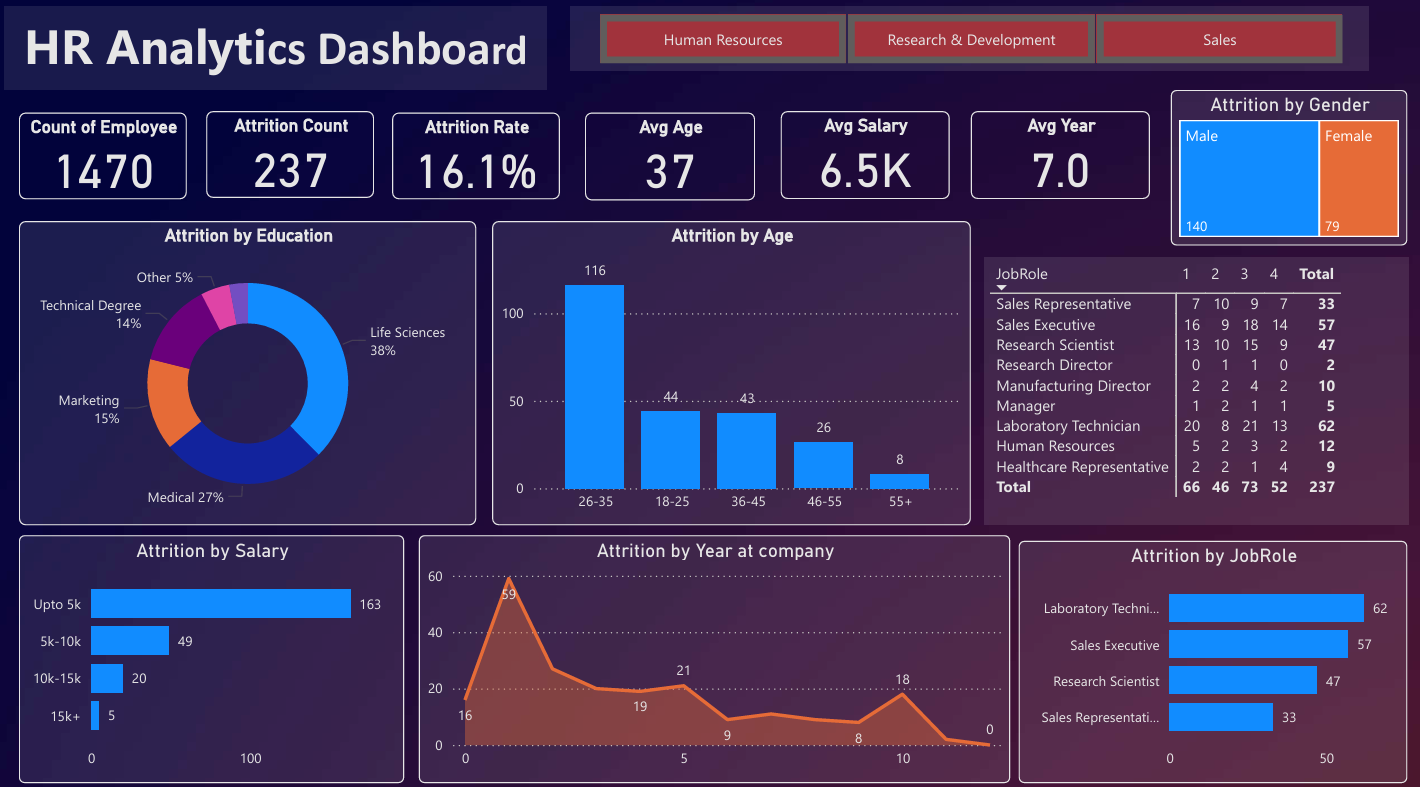

This screenshot's page, from the dashboard's own definition file:
{"tool":"powerbi","page":{"name":"Page 1","canvas":[1280,720],"ordinal":0},"visuals":[{"type":"card","title":"Count of Employee","fields":{"Values":["CountNonNull(HR_Analytics.EmpID)"]},"box":[18.9,100.2,149.3,77.5],"z":0},{"type":"card","title":"Attrition Count","fields":{"Values":["Sum(HR_Analytics.AttritionCount)"]},"box":[185.2,98.3,149.3,77.5],"z":1000},{"type":"card","title":"Attrition Rate","fields":{"Values":["HR_Analytics.AttritionRate"]},"box":[349.6,100.2,149.3,77.5],"z":2000},{"type":"card","title":"Avg Age","fields":{"Values":["Avg(HR_Analytics.Age)"]},"box":[508.4,100.2,151.2,77.5],"z":3000},{"type":"card","title":"Avg Salary","fields":{"Values":["Avg(HR_Analytics.MonthlyIncome)"]},"box":[684.1,100.2,149.3,77.5],"z":4000},{"type":"card","title":"Avg Year","fields":{"Values":["Avg(HR_Analytics.YearsAtCompany)"]},"box":[850.4,98.3,149.3,77.5],"z":5000},{"type":"donutChart","title":"Attrition by Education","fields":{"Y":["Sum(HR_Analytics.AttritionCount)"],"Category":["HR_Analytics.EducationField"]},"box":[18.9,196.5,406.3,270.2],"z":6000},{"type":"columnChart","title":"Attrition by Age","fields":{"Y":["Sum(HR_Analytics.AttritionCount)"],"Category":["HR_Analytics.AgeGroup"]},"box":[438.4,196.5,425.2,270.2],"z":7000},{"type":"pivotTable","fields":{"Rows":["HR_Analytics.JobRole"],"Columns":["HR_Analytics.JobSatisfaction"],"Values":["Sum(HR_Analytics.AttritionCount)"]},"box":[878.7,240,374.2,226.8],"z":8000},{"type":"barChart","title":"Attrition by Salary","fields":{"Category":["HR_Analytics.SalarySlab"],"Y":["Sum(HR_Analytics.AttritionCount)"]},"box":[18.9,476.2,330.7,219.2],"z":9000},{"type":"barChart","title":"Attrition by JobRole","fields":{"Category":["HR_Analytics.JobRole"],"Y":["Sum(HR_Analytics.AttritionCount)"]},"box":[909,480,343.9,215.4],"z":10000},{"type":"areaChart","title":"Attrition by Year at company ","fields":{"Category":["HR_Analytics.YearsAtCompany"],"Y":["Sum(HR_Analytics.AttritionCount)"]},"box":[374.2,481.9,519.7,213.5],"z":11000},{"type":"treemap","title":"Attrition by Gender","fields":{"Group":["HR_Analytics.Gender"],"Values":["Sum(HR_Analytics.AttritionCount)"]},"box":[1018.6,100.2,234.3,117.2],"z":12000},{"type":"slicer","fields":{"Values":["HR_Analytics.Department"]},"box":[508.4,5.7,619.8,52.9],"z":13000},{"type":"textbox","box":[5.7,5.7,481.9,73.7],"z":14000}]}

Visuals, with their boxes in screenshot pixels (x1, y1, x2, y2), scaled from the page's 1280x720 canvas onto the 1420x787 screenshot:
"Count of Employee" card: (x1=21, y1=110, x2=187, y2=194)
"Attrition Count" card: (x1=205, y1=107, x2=371, y2=192)
"Attrition Rate" card: (x1=388, y1=110, x2=553, y2=194)
"Avg Age" card: (x1=564, y1=110, x2=732, y2=194)
"Avg Salary" card: (x1=759, y1=110, x2=925, y2=194)
"Avg Year" card: (x1=943, y1=107, x2=1109, y2=192)
"Attrition by Education" donutChart: (x1=21, y1=215, x2=472, y2=510)
"Attrition by Age" columnChart: (x1=486, y1=215, x2=958, y2=510)
pivotTable - HR_Analytics.JobRole x HR_Analytics.JobSatisfaction: (x1=975, y1=262, x2=1390, y2=510)
"Attrition by Salary" barChart: (x1=21, y1=521, x2=388, y2=760)
"Attrition by JobRole" barChart: (x1=1008, y1=525, x2=1390, y2=760)
"Attrition by Year at company " areaChart: (x1=415, y1=527, x2=992, y2=760)
"Attrition by Gender" treemap: (x1=1130, y1=110, x2=1390, y2=238)
slicer - HR_Analytics.Department: (x1=564, y1=6, x2=1252, y2=64)
textbox: (x1=6, y1=6, x2=541, y2=87)
